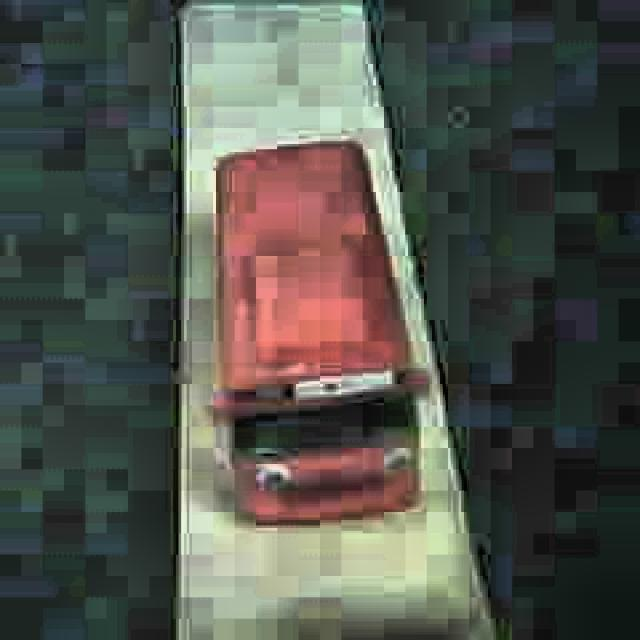bus: (205, 134, 432, 534)
